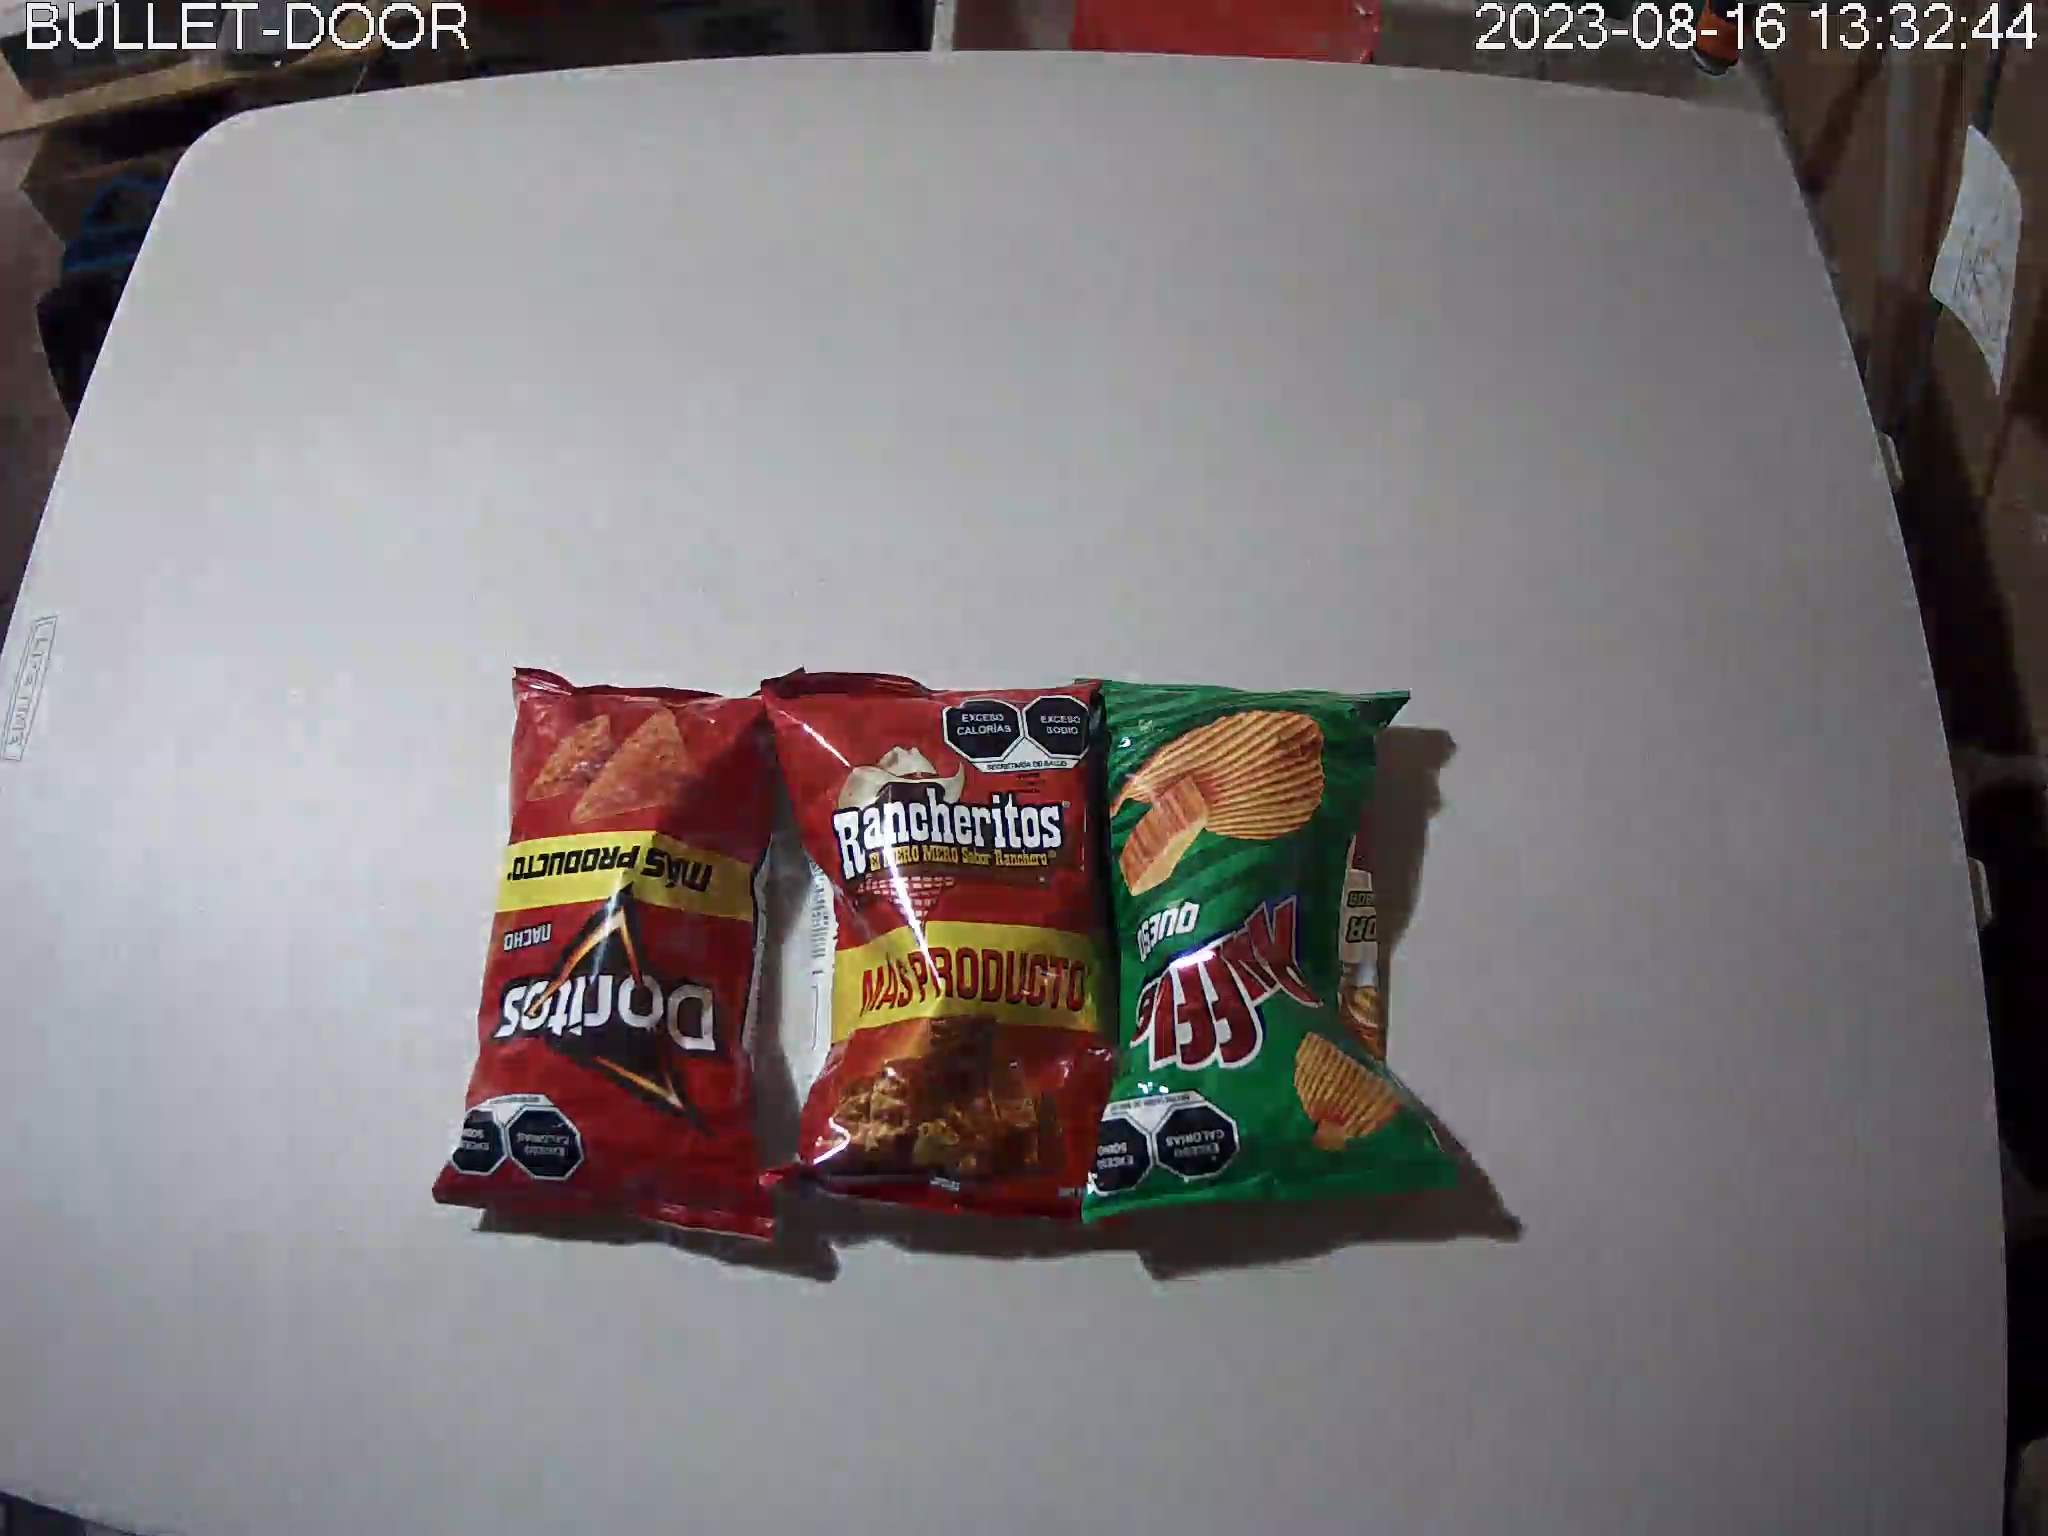DoritosN_61_F: (434, 662, 801, 1254)
Rancheritos_58_F: (761, 671, 1109, 1233)
RufflesQ_48_F: (1076, 674, 1464, 1221)
